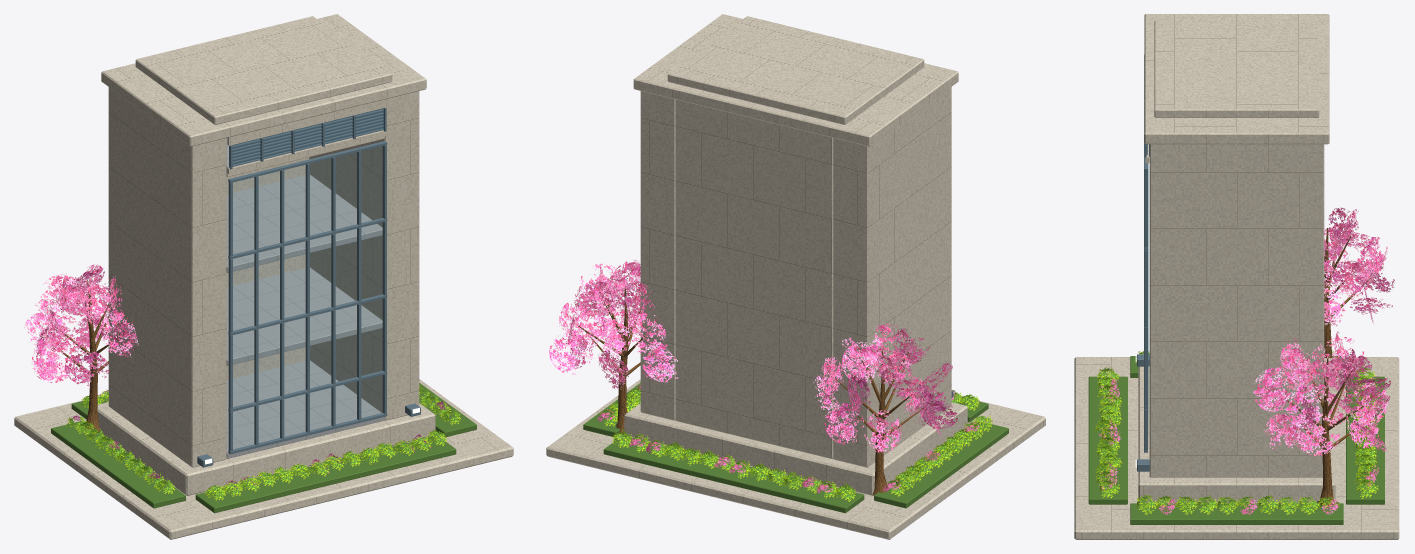
File: P01_gate_tower_v2.glb
The picture shows the model from 3 angles, left to right: view 1: azimuth 30°, elevation 25°; view 2: azimuth 150°, elevation 25°; view 3: azimuth 270°, elevation 25°; orthographic projection. The views are drawn at different scales.
Visible parts, largest first — view 1: GAME_V2_Pixel_limestone, GAME_Pixel floor tiles, GAME_Window frame, GAME_Planting soil, GAME_V2_Blossom_cutout, GAME_V2_Leaf_cutout, GAME_Louvres, GAME_V2_Bark; view 2: GAME_V2_Pixel_limestone, GAME_V2_Blossom_cutout, GAME_Planting soil, GAME_V2_Leaf_cutout, GAME_V2_Bark; view 3: GAME_V2_Pixel_limestone, GAME_V2_Blossom_cutout, GAME_Planting soil, GAME_V2_Leaf_cutout, GAME_V2_Bark, GAME_Window frame.
Part boxes in pixels (bbox=[...]): GAME_V2_Pixel_limestone: bbox=[14, 14, 513, 539]; GAME_Pixel floor tiles: bbox=[226, 138, 384, 458]; GAME_Window frame: bbox=[197, 107, 420, 467]; GAME_Planting soil: bbox=[51, 383, 476, 513]; GAME_V2_Blossom_cutout: bbox=[24, 264, 449, 488]; GAME_V2_Leaf_cutout: bbox=[65, 384, 460, 500]; GAME_Louvres: bbox=[229, 108, 383, 167]; GAME_V2_Bark: bbox=[42, 280, 118, 431]; GAME_V2_Pixel_limestone: bbox=[546, 14, 1045, 539]; GAME_V2_Blossom_cutout: bbox=[549, 259, 979, 492]; GAME_Planting soil: bbox=[583, 383, 1008, 513]; GAME_V2_Leaf_cutout: bbox=[600, 382, 992, 501]; GAME_V2_Bark: bbox=[577, 288, 923, 495]; GAME_V2_Pixel_limestone: bbox=[1074, 14, 1399, 539]; GAME_V2_Blossom_cutout: bbox=[1098, 207, 1394, 514]; GAME_Planting soil: bbox=[1088, 356, 1384, 524]; GAME_V2_Leaf_cutout: bbox=[1094, 350, 1379, 514]; GAME_V2_Bark: bbox=[1272, 228, 1375, 506]; GAME_Window frame: bbox=[1137, 54, 1149, 471].
Size of the model in its own units: 6.8 by 6.14 by 4.67.
Materials: 10 (5 with a texture image).
